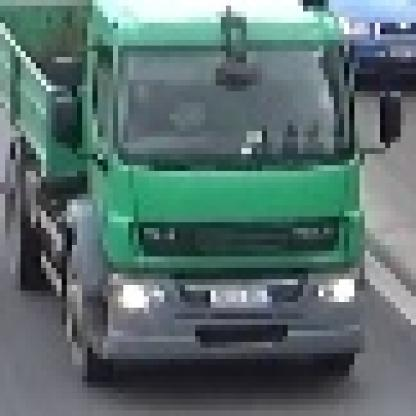truck: (1, 1, 402, 383)
